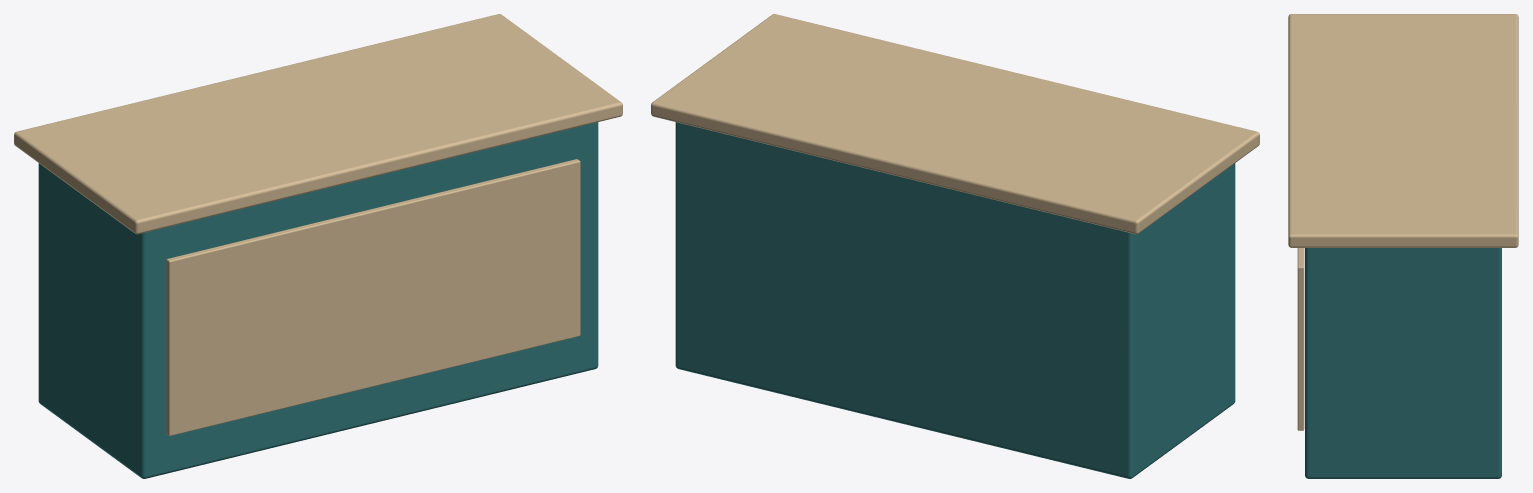
Rendered from tabletop-hobby-store-and-club-club-booking-counter-2eb0044b__31574.glb.
3 renders of one model, left to right at view 1: azimuth 30°, elevation 25°; view 2: azimuth 150°, elevation 25°; view 3: azimuth 270°, elevation 25°, orthographic. The views are drawn at different scales.
Visible parts, largest first — view 1: club-booking-counter; view 2: club-booking-counter; view 3: club-booking-counter.
Part boxes in pixels (<box>): club-booking-counter: <box>14,14,622,478</box>; club-booking-counter: <box>651,14,1259,478</box>; club-booking-counter: <box>1288,14,1518,478</box>.
Size of the model in its own units: 1.6 by 0.845 by 0.7001.
